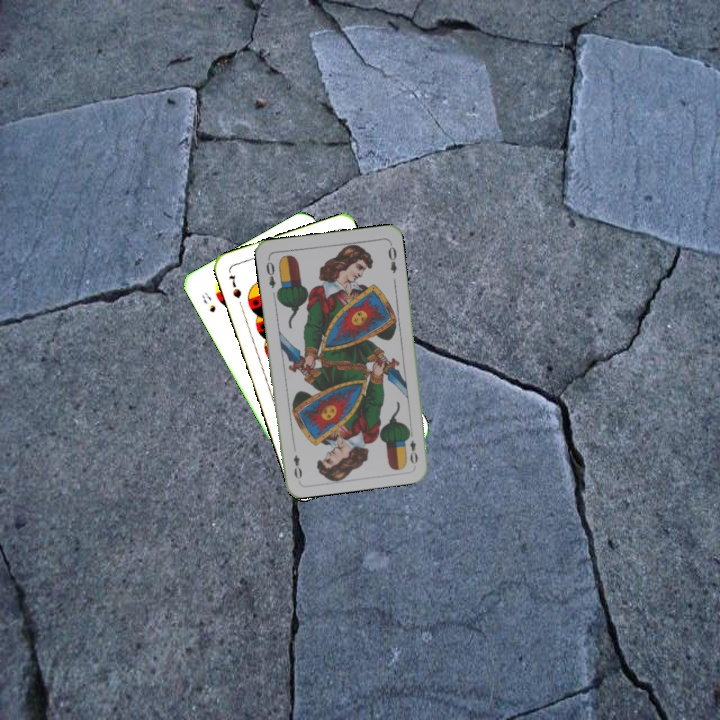EO: (403, 427, 420, 467), (262, 255, 278, 290)
S7: (225, 271, 244, 301)
S8: (198, 288, 218, 315)
